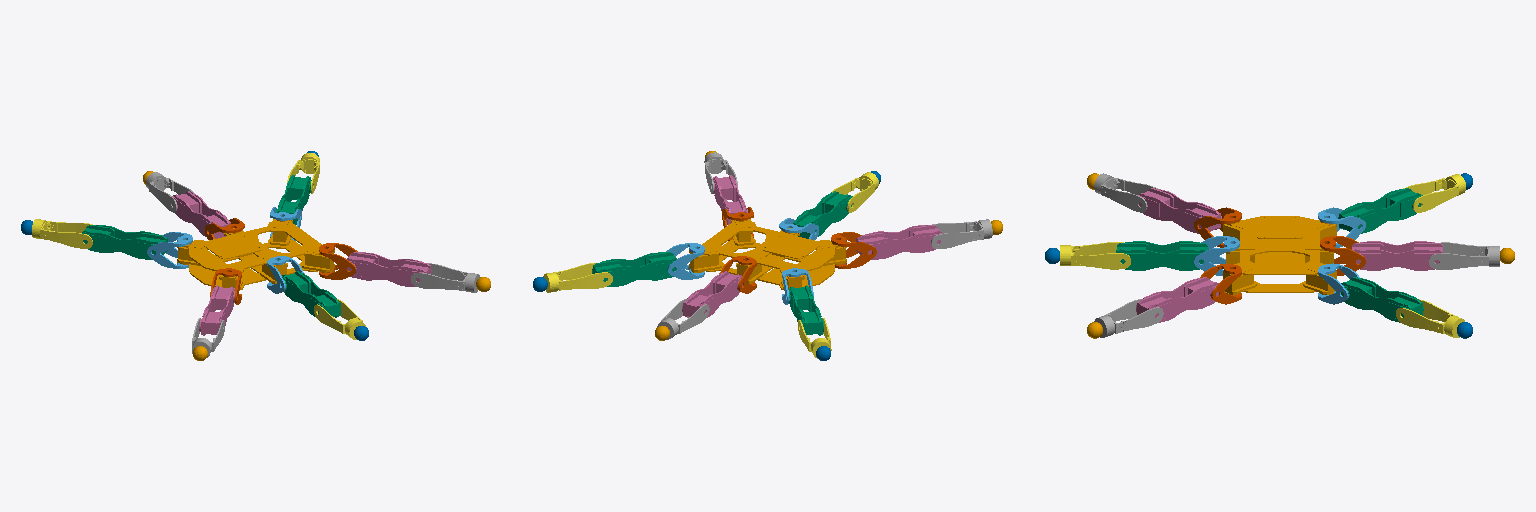
--- Facts derived from the render (not from the file) ---
Views: 3 orthographic renders of the robot side by side, from view 1: azimuth 30°, elevation 25°; view 2: azimuth 150°, elevation 25°; view 3: azimuth 270°, elevation 25°.
Model corin with 25 links and 24 joints (18 revolute, 6 fixed), rooted at body, posed all joints at 0.
Links seen in each view (by area): view 1: body, rf_upperleg, lr_upperleg, rm_upperleg, lm_upperleg, rf_lowerleg, lr_lowerleg, rr_upperleg, lf_upperleg, lr_hipassembly, rf_hipassembly, lm_lowerleg (+3 smaller); view 2: body, lf_upperleg, rr_upperleg, lm_upperleg, rm_upperleg, lf_lowerleg, rr_lowerleg, lr_upperleg, rf_upperleg, rr_hipassembly, rm_lowerleg, lf_hipassembly (+3 smaller); view 3: body, rm_upperleg, lm_upperleg, rf_upperleg, lf_upperleg, lr_upperleg, rr_upperleg, lm_lowerleg, rm_lowerleg, lf_lowerleg, rf_lowerleg, rr_lowerleg (+7 smaller).
Link boxes in pixels (bbox=[...]): body: bbox=[177, 219, 334, 290]; rf_upperleg: bbox=[347, 252, 431, 286]; lr_upperleg: bbox=[82, 225, 167, 259]; rm_upperleg: bbox=[281, 271, 340, 317]; lm_upperleg: bbox=[172, 191, 230, 238]; rf_lowerleg: bbox=[411, 263, 479, 292]; lr_lowerleg: bbox=[32, 219, 92, 248]; rr_upperleg: bbox=[199, 285, 234, 335]; lf_upperleg: bbox=[276, 175, 311, 224]; lr_hipassembly: bbox=[147, 232, 192, 268]; rf_hipassembly: bbox=[319, 243, 357, 279]; lm_lowerleg: bbox=[146, 172, 194, 212]; body: bbox=[689, 219, 846, 290]; lf_upperleg: bbox=[592, 252, 676, 286]; rr_upperleg: bbox=[856, 225, 942, 259]; lm_upperleg: bbox=[682, 271, 742, 317]; rm_upperleg: bbox=[793, 191, 852, 238]; lf_lowerleg: bbox=[543, 263, 612, 292]; rr_lowerleg: bbox=[931, 219, 992, 248]; lr_upperleg: bbox=[789, 285, 823, 335]; rf_upperleg: bbox=[713, 175, 747, 224]; rr_hipassembly: bbox=[831, 232, 876, 268]; rm_lowerleg: bbox=[832, 172, 878, 212]; lf_hipassembly: bbox=[666, 243, 704, 279]; body: bbox=[1223, 216, 1336, 294]; rm_upperleg: bbox=[1116, 241, 1208, 270]; lm_upperleg: bbox=[1352, 241, 1442, 270]; rf_upperleg: bbox=[1136, 277, 1218, 322]; lf_upperleg: bbox=[1341, 277, 1423, 322]; lr_upperleg: bbox=[1338, 188, 1422, 233]; rr_upperleg: bbox=[1138, 188, 1221, 233]; lm_lowerleg: bbox=[1429, 242, 1499, 269]; rm_lowerleg: bbox=[1060, 242, 1130, 269]; lf_lowerleg: bbox=[1396, 299, 1464, 337]; rf_lowerleg: bbox=[1094, 299, 1163, 337]; rr_lowerleg: bbox=[1094, 173, 1157, 212].
Size in the robot's own frame: 0.704 by 0.9 by 0.068 metres.
19 mesh visuals loaded from 4 distinct referenced files (3 binary STL, 1 OBJ).

URDF robot description (corin):
<?xml version="1.0"?>
<robot xmlns:xacro="http://www.ros.org/wiki/xacro" name="corin">

	<!-- START OF BODY SECTION!!!!-->
	<link name="body">
		<inertial>
			<origin xyz="0.0 0.0 0.0"/>
			<mass value="1.58"/>
			<inertia ixx="0.00491" iyy="0.007610" izz="0.01123"
					 ixy="0.0" ixz="0.0" iyz="0.0"/> <!-- values above given to 3 sf, 10 sf values available in common.xacro -->
		</inertial>
		<visual>
			<geometry>
				<mesh filename="./meshes/Body2.obj" scale="1 1 1"/> <!--these used to be referenced via ros package, i gave the full file name and moved the files to the drake ws to avoid ROS issues while i figure all this out. Consider coming back and using ROS later to tidy this up -->
			</geometry>
			<!--<material name="orange"/> Commented out this line as Mini Cheetah doesnt seem to have any mention of material or colour, and i thought this would be easier from a minimal working system perspective-->
		</visual>
		<collision>
			<geometry>
				<mesh filename="./meshes/Body_collision2.obj" scale="1 1 1"/>
			</geometry>
			<!--<material name="colli"/>-->
		</collision>
	</link>
	<!--END OF BODY SECTION!!!! -->



	<!--START OF LEFT FRONT LEG SECTION!!!!-->
	<!-- Joints -->
	<!-- Coxa joint -->
	<joint name="lf_q1_joint" type="revolute">
		<origin xyz="0.115 0.09 0" rpy="0 0 0.873"/>
		<parent link="body"/>
		<child  link="lf_hipassembly"/>
		<axis xyz="0 0 1"/>
		
		<limit effort="2.85" velocity="5.23" lower="-1.00" upper="1.00"/>
		<dynamics damping="0.15" friction="0" />
		<!-- <safety_controller k_position="100" k_velocity="100"
						   soft_lower_limit="${-7*PI/18}" soft_upper_limit="${5*PI/36}" /> -->
	</joint>
	<!-- Upper leg joint -->
	<joint name="lf_q2_joint" type="revolute">
		<origin xyz="0.06 0 0" rpy="1.571 0 0"/>
		<parent link="lf_hipassembly"/>
		<child  link="lf_upperleg"/>
		<axis xyz="0 0 1"/>
		<limit effort="2.85" velocity="5.23" lower="-2.22" upper="2.22"/>
		<dynamics damping="0.15" friction="0" />
		<!-- <safety_controller k_position="100" k_velocity="100"
						   soft_lower_limit="${-(1+reflect_front)*5*PI/36-(1-reflect_front)*7*PI/36}"
						   soft_upper_limit="${(1-reflect_front)*5*PI/36+(1+reflect_front)*7*PI/36}" /> -->
	</joint>
	<!-- Lower leg joint -->
	<joint name="lf_q3_joint" type="revolute">
		<origin xyz="0.15 0 0" rpy="0 0 0"/>
		<parent link="lf_upperleg"/>
		<child  link="lf_lowerleg"/>
		<axis xyz="0 0 1"/>
		<limit effort="2.85" velocity="5.23" lower="-2.79" upper="2.79"/>
		<dynamics damping="0.15" friction="0" />
		<!-- <safety_controller k_position="100" k_velocity="100"
						   soft_lower_limit="${-(1+reflect_front)*7*PI/18+(1-reflect_front)*PI/18}"
						   soft_upper_limit="${(1-reflect_front)*7*PI/18-(1+reflect_front)*PI/18}" /> -->

	</joint>
	<!-- Foot joint -->
	<joint name="lf_foot_joint" type="fixed">
		<origin xyz="0.134 0 0" rpy="0 0 0"/>
		<parent link="lf_lowerleg"/>
		<child  link="LF_FOOT"/>
	</joint>


	<!-- Links -->
	<!-- Hip assembly link -->
	<link name="lf_hipassembly">
		<visual>
			<origin rpy="0 0 0" xyz="0 0 0"/>
		      <geometry>
		        <mesh filename="./meshes/Coxa.STL" scale="1 1 1"/>
		      </geometry>
	      	<!--<material name="green"/>-->
	    </visual>

	    <collision>
	    	<origin rpy="0 0 0" xyz="0 0 0"/>
		    <geometry>
		      <mesh filename="./meshes/Coxa_collision2.obj" scale="1 1 1"/>
		    </geometry>
	      <!--<material name="orange"/>-->
	    </collision>

	    <inertial>
	    	<origin xyz="0.02471 0 0"/>
	      	<mass value="0.0406"/>
	      	<inertia ixx="0.000038" ixy="0.0" ixz="0.0" iyy="0.000038" iyz="0.0" izz="0.000040"/>
	    </inertial>
	  </link>

	<!-- Upper leg link -->
	<link name="lf_upperleg">
		<visual>
	      	<geometry>
	        	<mesh filename="./meshes/Femur.STL" scale="1 1 1"/>
	      	</geometry>
	      	<origin xyz="0 0 0" rpy="0 0 0"/>
	      	<!--<material name="blue"/>-->
	    </visual>

	    <collision>
	      	<geometry>
	        	<box size= "0.15 0.04 0.04"/>
	      	</geometry>
	      	<origin xyz="0.075 0 0" rpy="0 0 0"/>
	      	<!--<material name="colli"/>-->
	    </collision>

	    <inertial>
	      	<mass value="0.35"/>
	      	<inertia ixx="0.000014" ixy="0" ixz="0" iyy="0.000047" iyz="0" izz="0.000051"/>
	      	<origin xyz="0.075 0 0"/>
	    </inertial>
	</link>

	<!-- Lower leg link -->
	<link name="lf_lowerleg">
		<visual>
	      	<geometry>
	      		<mesh filename="./meshes/Tibia.STL" scale="1 1 1"/>
	      	</geometry>
	      	<origin xyz="0 0 0" rpy="1.571 0 0"/>
	      	<!--<material name="yellow"/>-->
	    </visual>

	    <collision>
	      	<geometry>
						<mesh filename="./meshes/Tibia_collision2.obj" scale="1 1 1"/>
	        	<!-- <box size= "${tibia_cl} ${tibia_d} ${tibia_w}"/> -->
	      	</geometry>
	      	<origin xyz="0.0 0 0" rpy="1.571 0 0"/>
	      	<!--<material name="colli"/>-->
	    </collision>

	    <inertial>
	      	<mass value="0.076"/>
	      	<inertia ixx="0.000025" ixy="0" ixz="0" iyy="0.000105" iyz="0" izz="0.000117"/>
	      	<origin xyz="0.0887 0 0"/>
	    </inertial>
	</link>

	<!-- Foot link -->
	<link name="LF_FOOT">
		<visual>
	      	<geometry>
	        	<sphere radius="0.016"/>
	      	</geometry>
	      	<origin xyz="0 0 0" rpy="0 0 0"/>
	      	<!--<material name="black"/>-->
	    </visual>

	    <collision>
	      	<geometry>
	        	<sphere radius="0.016"/>
	      	</geometry>
	      	<origin xyz="0 0 0" rpy="0 0 0"/>
	      	<!--<material name="colli"/>-->
	    </collision>

	    <inertial>
	      	<mass value="0.040"/>
	      	<inertia ixx="0.000004" ixy="0" ixz="0" iyy="0.000004" iyz="0" izz="0.000004" />
	      	<origin xyz="0 0 0"/>
	    </inertial>
	</link>
	<!--END OF LEFT FRONT LEG SECTION!!!!-->



	<!--START OF LEFT MIDDLE LEG SECTION!!!!-->
	<!-- Joints -->
	<!-- Coxa joint -->
	<joint name="lm_q1_joint" type="revolute">
		<origin xyz="0 0.09 0" rpy="0 0 1.571"/>
		<parent link="body"/>
		<child  link="lm_hipassembly"/>
		<axis xyz="0 0 1"/>
		
		<limit effort="2.85" velocity="5.23" lower="-0.84" upper="0.84"/>
		<dynamics damping="0.15" friction="0" />
		<!-- <safety_controller k_position="100" k_velocity="100"
						   soft_lower_limit="${-7*PI/18}" soft_upper_limit="${5*PI/36}" /> -->
	</joint>
	<!-- Upper leg joint -->
	<joint name="lm_q2_joint" type="revolute">
		<origin xyz="0.06 0 0" rpy="1.571 0 0"/>
		<parent link="lm_hipassembly"/>
		<child  link="lm_upperleg"/>
		<axis xyz="0 0 1"/>
		<limit effort="2.85" velocity="5.23" lower="-2.22" upper="2.22"/>
		<dynamics damping="0.15" friction="0" />
		<!-- <safety_controller k_position="100" k_velocity="100"
						   soft_lower_limit="${-(1+reflect_front)*5*PI/36-(1-reflect_front)*7*PI/36}"
						   soft_upper_limit="${(1-reflect_front)*5*PI/36+(1+reflect_front)*7*PI/36}" /> -->
	</joint>
	<!-- Lower leg joint -->
	<joint name="lm_q3_joint" type="revolute">
		<origin xyz="0.15 0 0" rpy="0 0 0"/>
		<parent link="lm_upperleg"/>
		<child  link="lm_lowerleg"/>
		<axis xyz="0 0 1"/>
		<limit effort="2.85" velocity="5.23" lower="-2.79" upper="2.79"/>
		<dynamics damping="0.15" friction="0" />
		<!-- <safety_controller k_position="100" k_velocity="100"
						   soft_lower_limit="${-(1+reflect_front)*7*PI/18+(1-reflect_front)*PI/18}"
						   soft_upper_limit="${(1-reflect_front)*7*PI/18-(1+reflect_front)*PI/18}" /> -->

	</joint>
	<!-- Foot joint -->
	<joint name="lm_foot_joint" type="fixed">
		<origin xyz="0.134 0 0" rpy="0 0 0"/>
		<parent link="lm_lowerleg"/>
		<child  link="LM_FOOT"/>
	</joint>


	<!-- Links -->
	<!-- Hip assembly link -->
	<link name="lm_hipassembly">
		<visual>
			<origin rpy="0 0 0" xyz="0 0 0"/>
		      <geometry>
		        <mesh filename="./meshes/Coxa.STL" scale="1 1 1"/>
		      </geometry>
	      	<!--<material name="green"/>-->
	    </visual>

	    <collision>
	    	<origin rpy="0 0 0" xyz="0 0 0"/>
		    <geometry>
		      <mesh filename="./meshes/Coxa_collision2.obj" scale="1 1 1"/>
		    </geometry>
	      <!--<material name="orange"/>-->
	    </collision>

	    <inertial>
	    	<origin xyz="0.02471 0 0"/>
	      	<mass value="0.0406"/>
	      	<inertia ixx="0.000038" ixy="0.0" ixz="0.0" iyy="0.000038" iyz="0.0" izz="0.000040"/>
	    </inertial>
	  </link>

	<!-- Upper leg link -->
	<link name="lm_upperleg">
		<visual>
	      	<geometry>
	        	<mesh filename="./meshes/Femur.STL" scale="1 1 1"/>
	      	</geometry>
	      	<origin xyz="0 0 0" rpy="0 0 0"/>
	      	<!--<material name="blue"/>-->
	    </visual>

	    <collision>
	      	<geometry>
	        	<box size= "0.15 0.04 0.04"/>
	      	</geometry>
	      	<origin xyz="0.075 0 0" rpy="0 0 0"/>
	      	<!--<material name="colli"/>-->
	    </collision>

	    <inertial>
	      	<mass value="0.35"/>
	      	<inertia ixx="0.000014" ixy="0" ixz="0" iyy="0.000047" iyz="0" izz="0.000051"/>
	      	<origin xyz="0.075 0 0"/>
	    </inertial>
	</link>

	<!-- Lower leg link -->
	<link name="lm_lowerleg">
		<visual>
	      	<geometry>
	      		<mesh filename="./meshes/Tibia.STL" scale="1 1 1"/>
	      	</geometry>
	      	<origin xyz="0 0 0" rpy="1.571 0 0"/>
	      	<!--<material name="yellow"/>-->
	    </visual>

	    <collision>
	      	<geometry>
						<mesh filename="./meshes/Tibia_collision2.obj" scale="1 1 1"/>
	        	<!-- <box size= "${tibia_cl} ${tibia_d} ${tibia_w}"/> -->
	      	</geometry>
	      	<origin xyz="0.0 0 0" rpy="1.571 0 0"/>
	      	<!--<material name="colli"/>-->
	    </collision>

	    <inertial>
	      	<mass value="0.076"/>
	      	<inertia ixx="0.000025" ixy="0" ixz="0" iyy="0.000105" iyz="0" izz="0.000117"/>
	      	<origin xyz="0.0887 0 0"/>
	    </inertial>
	</link>

	<!-- Foot link -->
	<link name="LM_FOOT">
		<visual>
	      	<geometry>
	        	<sphere radius="0.016"/>
	      	</geometry>
	      	<origin xyz="0 0 0" rpy="0 0 0"/>
	      	<!--<material name="black"/>-->
	    </visual>

	    <collision>
	      	<geometry>
	        	<sphere radius="0.016"/>
	      	</geometry>
	      	<origin xyz="0 0 0" rpy="0 0 0"/>
	      	<!--<material name="colli"/>-->
	    </collision>

	    <inertial>
	      	<mass value="0.040"/>
	      	<inertia ixx="0.000004" ixy="0" ixz="0" iyy="0.000004" iyz="0" izz="0.000004" />
	      	<origin xyz="0 0 0"/>
	    </inertial>
	</link>
	<!--END OF LEFT MIDDLE LEG SECTION!!!!-->



	<!--START OF LEFT REAR LEG SECTION!!!!-->
	<!-- Joints -->
	<!-- Coxa joint -->
	<joint name="lr_q1_joint" type="revolute">
		<origin xyz="-0.115 0.09 0" rpy="0 0 2.269"/>
		<parent link="body"/>
		<child  link="lr_hipassembly"/>
		<axis xyz="0 0 1"/>
		
		<limit effort="2.85" velocity="5.23" lower="-1.00" upper="1.00"/>
		<dynamics damping="0.15" friction="0" />
		<!-- <safety_controller k_position="100" k_velocity="100"
						   soft_lower_limit="${-7*PI/18}" soft_upper_limit="${5*PI/36}" /> -->
	</joint>
	<!-- Upper leg joint -->
	<joint name="lr_q2_joint" type="revolute">
		<origin xyz="0.06 0 0" rpy="1.571 0 0"/>
		<parent link="lr_hipassembly"/>
		<child  link="lr_upperleg"/>
		<axis xyz="0 0 1"/>
		<limit effort="2.85" velocity="5.23" lower="-2.22" upper="2.22"/>
		<dynamics damping="0.15" friction="0" />
		<!-- <safety_controller k_position="100" k_velocity="100"
						   soft_lower_limit="${-(1+reflect_front)*5*PI/36-(1-reflect_front)*7*PI/36}"
						   soft_upper_limit="${(1-reflect_front)*5*PI/36+(1+reflect_front)*7*PI/36}" /> -->
	</joint>
	<!-- Lower leg joint -->
	<joint name="lr_q3_joint" type="revolute">
		<origin xyz="0.15 0 0" rpy="0 0 0"/>
		<parent link="lr_upperleg"/>
		<child  link="lr_lowerleg"/>
		<axis xyz="0 0 1"/>
		<limit effort="2.85" velocity="5.23" lower="-2.79" upper="2.79"/>
		<dynamics damping="0.15" friction="0" />
		<!-- <safety_controller k_position="100" k_velocity="100"
						   soft_lower_limit="${-(1+reflect_front)*7*PI/18+(1-reflect_front)*PI/18}"
						   soft_upper_limit="${(1-reflect_front)*7*PI/18-(1+reflect_front)*PI/18}" /> -->

	</joint>
	<!-- Foot joint -->
	<joint name="lr_foot_joint" type="fixed">
		<origin xyz="0.134 0 0" rpy="0 0 0"/>
		<parent link="lr_lowerleg"/>
		<child  link="LH_FOOT"/>
	</joint>


	<!-- Links -->
	<!-- Hip assembly link -->
	<link name="lr_hipassembly">
		<visual>
			<origin rpy="0 0 0" xyz="0 0 0"/>
		      <geometry>
		        <mesh filename="./meshes/Coxa.STL" scale="1 1 1"/>
		      </geometry>
	      	<!--<material name="green"/>-->
	    </visual>

	    <collision>
	    	<origin rpy="0 0 0" xyz="0 0 0"/>
		    <geometry>
		      <mesh filename="./meshes/Coxa_collision2.obj" scale="1 1 1"/>
		    </geometry>
	      <!--<material name="orange"/>-->
	    </collision>

	    <inertial>
	    	<origin xyz="0.02471 0 0"/>
	      	<mass value="0.0406"/>
	      	<inertia ixx="0.000038" ixy="0.0" ixz="0.0" iyy="0.000038" iyz="0.0" izz="0.000040"/>
	    </inertial>
	  </link>

	<!-- Upper leg link -->
	<link name="lr_upperleg">
		<visual>
	      	<geometry>
	        	<mesh filename="./meshes/Femur.STL" scale="1 1 1"/>
	      	</geometry>
	      	<origin xyz="0 0 0" rpy="0 0 0"/>
	      	<!--<material name="blue"/>-->
	    </visual>

	    <collision>
	      	<geometry>
	        	<box size= "0.15 0.04 0.04"/>
	      	</geometry>
	      	<origin xyz="0.075 0 0" rpy="0 0 0"/>
	      	<!--<material name="colli"/>-->
	    </collision>

	    <inertial>
	      	<mass value="0.35"/>
	      	<inertia ixx="0.000014" ixy="0" ixz="0" iyy="0.000047" iyz="0" izz="0.000051"/>
	      	<origin xyz="0.075 0 0"/>
	    </inertial>
	</link>

	<!-- Lower leg link -->
	<link name="lr_lowerleg">
		<visual>
	      	<geometry>
	      		<mesh filename="./meshes/Tibia.STL" scale="1 1 1"/>
	      	</geometry>
	      	<origin xyz="0 0 0" rpy="1.571 0 0"/>
	      	<!--<material name="yellow"/>-->
	    </visual>

	    <collision>
	      	<geometry>
						<mesh filename="./meshes/Tibia_collision2.obj" scale="1 1 1"/>
	        	<!-- <box size= "${tibia_cl} ${tibia_d} ${tibia_w}"/> -->
	      	</geometry>
	      	<origin xyz="0.0 0 0" rpy="1.571 0 0"/>
	      	<!--<material name="colli"/>-->
	    </collision>

	    <inertial>
	      	<mass value="0.076"/>
	      	<inertia ixx="0.000025" ixy="0" ixz="0" iyy="0.000105" iyz="0" izz="0.000117"/>
	      	<origin xyz="0.0887 0 0"/>
	    </inertial>
	</link>

	<!-- Foot link -->
	<link name="LH_FOOT">
		<visual>
	      	<geometry>
	        	<sphere radius="0.016"/>
	      	</geometry>
	      	<origin xyz="0 0 0" rpy="0 0 0"/>
	      	<!--<material name="black"/>-->
	    </visual>

	    <collision>
	      	<geometry>
	        	<sphere radius="0.016"/>
	      	</geometry>
	      	<origin xyz="0 0 0" rpy="0 0 0"/>
	      	<!--<material name="colli"/>-->
	    </collision>

	    <inertial>
	      	<mass value="0.040"/>
	      	<inertia ixx="0.000004" ixy="0" ixz="0" iyy="0.000004" iyz="0" izz="0.000004" />
	      	<origin xyz="0 0 0"/>
	    </inertial>
	</link>
	<!--END OF LEFT REAR LEG SECTION!!!!-->




	<!--START OF RIGHT FRONT LEG SECTION!!!!-->
	<!-- Joints -->
	<!-- Coxa joint -->
	<joint name="rf_q1_joint" type="revolute">
		<origin xyz="0.115 -0.09 0" rpy="0 0 -0.873"/>
		<parent link="body"/>
		<child  link="rf_hipassembly"/>
		<axis xyz="0 0 1"/>
		
		<limit effort="2.85" velocity="5.23" lower="-1.00" upper="1.00"/>
		<dynamics damping="0.15" friction="0" />
		<!-- <safety_controller k_position="100" k_velocity="100"
						   soft_lower_limit="${-7*PI/18}" soft_upper_limit="${5*PI/36}" /> -->
	</joint>
	<!-- Upper leg joint -->
	<joint name="rf_q2_joint" type="revolute">
		<origin xyz="0.06 0 0" rpy="1.571 0 0"/>
		<parent link="rf_hipassembly"/>
		<child  link="rf_upperleg"/>
		<axis xyz="0 0 1"/>
		<limit effort="2.85" velocity="5.23" lower="-2.22" upper="2.22"/>
		<dynamics damping="0.15" friction="0" />
		<!-- <safety_controller k_position="100" k_velocity="100"
						   soft_lower_limit="${-(1+reflect_front)*5*PI/36-(1-reflect_front)*7*PI/36}"
						   soft_upper_limit="${(1-reflect_front)*5*PI/36+(1+reflect_front)*7*PI/36}" /> -->
	</joint>
	<!-- Lower leg joint -->
	<joint name="rf_q3_joint" type="revolute">
		<origin xyz="0.15 0 0" rpy="0 0 0"/>
		<parent link="rf_upperleg"/>
		<child  link="rf_lowerleg"/>
		<axis xyz="0 0 1"/>
		<limit effort="2.85" velocity="5.23" lower="-2.79" upper="2.79"/>
		<dynamics damping="0.15" friction="0" />
		<!-- <safety_controller k_position="100" k_velocity="100"
						   soft_lower_limit="${-(1+reflect_front)*7*PI/18+(1-reflect_front)*PI/18}"
						   soft_upper_limit="${(1-reflect_front)*7*PI/18-(1+reflect_front)*PI/18}" /> -->

	</joint>
	<!-- Foot joint -->
	<joint name="rf_foot_joint" type="fixed">
		<origin xyz="0.134 0 0" rpy="0 0 0"/>
		<parent link="rf_lowerleg"/>
		<child  link="RF_FOOT"/>
	</joint>


	<!-- Links -->
	<!-- Hip assembly link -->
	<link name="rf_hipassembly">
		<visual>
			<origin rpy="0 0 0" xyz="0 0 0"/>
		      <geometry>
		        <mesh filename="./meshes/Coxa.STL" scale="1 1 1"/>
		      </geometry>
	      	<!--<material name="green"/>-->
	    </visual>

	    <collision>
	    	<origin rpy="0 0 0" xyz="0 0 0"/>
		    <geometry>
		      <mesh filename="./meshes/Coxa_collision2.obj" scale="1 1 1"/>
		    </geometry>
	      <!--<material name="orange"/>-->
	    </collision>

	    <inertial>
	    	<origin xyz="0.02471 0 0"/>
	      	<mass value="0.0406"/>
	      	<inertia ixx="0.000038" ixy="0.0" ixz="0.0" iyy="0.000038" iyz="0.0" izz="0.000040"/>
	    </inertial>
	  </link>

	<!-- Upper leg link -->
	<link name="rf_upperleg">
		<visual>
	      	<geometry>
	        	<mesh filename="./meshes/Femur.STL" scale="1 1 1"/>
	      	</geometry>
	      	<origin xyz="0 0 0" rpy="0 0 0"/>
	      	<!--<material name="blue"/>-->
	    </visual>

	    <collision>
	      	<geometry>
	        	<box size= "0.15 0.04 0.04"/>
	      	</geometry>
	      	<origin xyz="0.075 0 0" rpy="0 0 0"/>
	      	<!--<material name="colli"/>-->
	    </collision>

	    <inertial>
	      	<mass value="0.35"/>
	      	<inertia ixx="0.000014" ixy="0" ixz="0" iyy="0.000047" iyz="0" izz="0.000051"/>
	      	<origin xyz="0.075 0 0"/>
	    </inertial>
	</link>

	<!-- Lower leg link -->
	<link name="rf_lowerleg">
		<visual>
	      	<geometry>
	      		<mesh filename="./meshes/Tibia.STL" scale="1 1 1"/>
	      	</geometry>
	      	<origin xyz="0 0 0" rpy="1.571 0 0"/>
	      	<!--<material name="yellow"/>-->
	    </visual>

	    <collision>
	      	<geometry>
						<mesh filename="./meshes/Tibia_collision2.obj" scale="1 1 1"/>
	        	<!-- <box size= "${tibia_cl} ${tibia_d} ${tibia_w}"/> -->
	      	</geometry>
	      	<origin xyz="0.0 0 0" rpy="1.571 0 0"/>
	      	<!--<material name="colli"/>-->
	    </collision>

	    <inertial>
	      	<mass value="0.076"/>
	      	<inertia ixx="0.000025" ixy="0" ixz="0" iyy="0.000105" iyz="0" izz="0.000117"/>
	      	<origin xyz="0.0887 0 0"/>
	    </inertial>
	</link>

	<!-- Foot link -->
	<link name="RF_FOOT">
		<visual>
	      	<geometry>
	        	<sphere radius="0.016"/>
	      	</geometry>
	      	<origin xyz="0 0 0" rpy="0 0 0"/>
	      	<!--<material name="black"/>-->
	    </visual>

	    <collision>
	      	<geometry>
	        	<sphere radius="0.016"/>
	      	</geometry>
	      	<origin xyz="0 0 0" rpy="0 0 0"/>
	      	<!--<material name="colli"/>-->
	    </collision>

	    <inertial>
	      	<mass value="0.040"/>
	      	<inertia ixx="0.000004" ixy="0" ixz="0" iyy="0.000004" iyz="0" izz="0.000004" />
	      	<origin xyz="0 0 0"/>
	    </inertial>
	</link>
	<!--END OF RIGHT FRONT LEG SECTION!!!!-->


	<!--START OF RIGHT MIDDLE LEG SECTION!!!!-->
	<!-- Joints -->
	<!-- Coxa joint -->
	<joint name="rm_q1_joint" type="revolute">
		<origin xyz="0 -0.09 0" rpy="0 0 -1.571"/> <!--PUT ORIGIN OF LEG HERE-->
		<parent link="body"/>
		<child  link="rm_hipassembly"/>
		<axis xyz="0 0 1"/>
		
		<limit effort="2.85" velocity="5.23" lower="-0.84" upper="0.84"/>
		<dynamics damping="0.15" friction="0" />
		<!-- <safety_controller k_position="100" k_velocity="100"
						   soft_lower_limit="${-7*PI/18}" soft_upper_limit="${5*PI/36}" /> -->
	</joint>
	<!-- Upper leg joint -->
	<joint name="rm_q2_joint" type="revolute">
		<origin xyz="0.06 0 0" rpy="1.571 0 0"/>
		<parent link="rm_hipassembly"/>
		<child  link="rm_upperleg"/>
		<axis xyz="0 0 1"/>
		<limit effort="2.85" velocity="5.23" lower="-2.22" upper="2.22"/>
		<dynamics damping="0.15" friction="0" />
		<!-- <safety_controller k_position="100" k_velocity="100"
						   soft_lower_limit="${-(1+reflect_front)*5*PI/36-(1-reflect_front)*7*PI/36}"
						   soft_upper_limit="${(1-reflect_front)*5*PI/36+(1+reflect_front)*7*PI/36}" /> -->
	</joint>
	<!-- Lower leg joint -->
	<joint name="rm_q3_joint" type="revolute">
		<origin xyz="0.15 0 0" rpy="0 0 0"/>
		<parent link="rm_upperleg"/>
		<child  link="rm_lowerleg"/>
		<axis xyz="0 0 1"/>
		<limit effort="2.85" velocity="5.23" lower="-2.79" upper="2.79"/>
		<dynamics damping="0.15" friction="0" />
		<!-- <safety_controller k_position="100" k_velocity="100"
						   soft_lower_limit="${-(1+reflect_front)*7*PI/18+(1-reflect_front)*PI/18}"
						   soft_upper_limit="${(1-reflect_front)*7*PI/18-(1+reflect_front)*PI/18}" /> -->

	</joint>
	<!-- Foot joint -->
	<joint name="rm_foot_joint" type="fixed">
		<origin xyz="0.134 0 0" rpy="0 0 0"/>
		<parent link="rm_lowerleg"/>
		<child  link="RM_FOOT"/>
	</joint>


	<!-- Links -->
	<!-- Hip assembly link -->
	<link name="rm_hipassembly">
		<visual>
			<origin rpy="0 0 0" xyz="0 0 0"/>
		      <geometry>
		        <mesh filename="./meshes/Coxa.STL" scale="1 1 1"/>
		      </geometry>
	      	<!--<material name="green"/>-->
	    </visual>

	    <collision>
	    	<origin rpy="0 0 0" xyz="0 0 0"/>
		    <geometry>
		      <mesh filename="./meshes/Coxa_collision2.obj" scale="1 1 1"/>
		    </geometry>
	      <!--<material name="orange"/>-->
	    </collision>

	    <inertial>
	    	<origin xyz="0.02471 0 0"/>
	      	<mass value="0.0406"/>
	      	<inertia ixx="0.000038" ixy="0.0" ixz="0.0" iyy="0.000038" iyz="0.0" izz="0.000040"/>
	    </inertial>
	  </link>

	<!-- Upper leg link -->
	<link name="rm_upperleg">
		<visual>
	      	<geometry>
	        	<mesh filename="./meshes/Femur.STL" scale="1 1 1"/>
	      	</geometry>
	      	<origin xyz="0 0 0" rpy="0 0 0"/>
	      	<!--<material name="blue"/>-->
	    </visual>

	    <collision>
	      	<geometry>
	        	<box size= "0.15 0.04 0.04"/>
	      	</geometry>
	      	<origin xyz="0.075 0 0" rpy="0 0 0"/>
	      	<!--<material name="colli"/>-->
	    </collision>

	    <inertial>
	      	<mass value="0.35"/>
	      	<inertia ixx="0.000014" ixy="0" ixz="0" iyy="0.000047" iyz="0" izz="0.000051"/>
	      	<origin xyz="0.075 0 0"/>
	    </inertial>
	</link>

	<!-- Lower leg link -->
	<link name="rm_lowerleg">
		<visual>
	      	<geometry>
	      		<mesh filename="./meshes/Tibia.STL" scale="1 1 1"/>
	      	</geometry>
	      	<origin xyz="0 0 0" rpy="1.571 0 0"/>
	      	<!--<material name="yellow"/>-->
	    </visual>

	    <collision>
	      	<geometry>
						<mesh filename="./meshes/Tibia_collision2.obj" scale="1 1 1"/>
	        	<!-- <box size= "${tibia_cl} ${tibia_d} ${tibia_w}"/> -->
	      	</geometry>
	      	<origin xyz="0.0 0 0" rpy="1.571 0 0"/>
	      	<!--<material name="colli"/>-->
	    </collision>

	    <inertial>
	      	<mass value="0.076"/>
	      	<inertia ixx="0.000025" ixy="0" ixz="0" iyy="0.000105" iyz="0" izz="0.000117"/>
	      	<origin xyz="0.0887 0 0"/>
	    </inertial>
	</link>

	<!-- Foot link -->
	<link name="RM_FOOT">
		<visual>
	      	<geometry>
	        	<sphere radius="0.016"/>
	      	</geometry>
	      	<origin xyz="0 0 0" rpy="0 0 0"/>
	      	<!--<material name="black"/>-->
	    </visual>

	    <collision>
	      	<geometry>
	        	<sphere radius="0.016"/>
	      	</geometry>
	      	<origin xyz="0 0 0" rpy="0 0 0"/>
	      	<!--<material name="colli"/>-->
	    </collision>

	    <inertial>
	      	<mass value="0.040"/>
	      	<inertia ixx="0.000004" ixy="0" ixz="0" iyy="0.000004" iyz="0" izz="0.000004" />
	      	<origin xyz="0 0 0"/>
	    </inertial>
	</link>
	<!--END OF LEFT FRONT LEG SECTION!!!!-->


	<!--START OF RIGHT REAR LEG SECTION!!!!-->
	<!-- Joints -->
	<!-- Coxa joint -->
	<joint name="rr_q1_joint" type="revolute">
		<origin xyz="-0.115 -0.09 0" rpy="0 0 -2.269"/>
		<parent link="body"/>
		<child  link="rr_hipassembly"/>
		<axis xyz="0 0 1"/>
		
		<limit effort="2.85" velocity="5.23" lower="-1.00" upper="1.00"/>
		<dynamics damping="0.15" friction="0" />
		<!-- <safety_controller k_position="100" k_velocity="100"
						   soft_lower_limit="${-7*PI/18}" soft_upper_limit="${5*PI/36}" /> -->
	</joint>
	<!-- Upper leg joint -->
	<joint name="rr_q2_joint" type="revolute">
		<origin xyz="0.06 0 0" rpy="1.571 0 0"/>
		<parent link="rr_hipassembly"/>
		<child  link="rr_upperleg"/>
		<axis xyz="0 0 1"/>
		<limit effort="2.85" velocity="5.23" lower="-2.22" upper="2.22"/>
		<dynamics damping="0.15" friction="0" />
		<!-- <safety_controller k_position="100" k_velocity="100"
						   soft_lower_limit="${-(1+reflect_front)*5*PI/36-(1-reflect_front)*7*PI/36}"
						   soft_upper_limit="${(1-reflect_front)*5*PI/36+(1+reflect_front)*7*PI/36}" /> -->
	</joint>
	<!-- Lower leg joint -->
	<joint name="rr_q3_joint" type="revolute">
		<origin xyz="0.15 0 0" rpy="0 0 0"/>
		<parent link="rr_upperleg"/>
		<child  link="rr_lowerleg"/>
		<axis xyz="0 0 1"/>
		<limit effort="2.85" velocity="5.23" lower="-2.79" upper="2.79"/>
		<dynamics damping="0.15" friction="0" />
		<!-- <safety_controller k_position="100" k_velocity="100"
						   soft_lower_limit="${-(1+reflect_front)*7*PI/18+(1-reflect_front)*PI/18}"
						   soft_upper_limit="${(1-reflect_front)*7*PI/18-(1+reflect_front)*PI/18}" /> -->

	</joint>
	<!-- Foot joint -->
	<joint name="rr_foot_joint" type="fixed">
		<origin xyz="0.134 0 0" rpy="0 0 0"/>
		<parent link="rr_lowerleg"/>
		<child  link="RH_FOOT"/>
	</joint>


	<!-- Links -->
	<!-- Hip assembly link -->
	<link name="rr_hipassembly">
		<visual>
			<origin rpy="0 0 0" xyz="0 0 0"/>
		      <geometry>
		        <mesh filename="./meshes/Coxa.STL" scale="1 1 1"/>
		      </geometry>
	      	<!--<material name="green"/>-->
	    </visual>

	    <collision>
	    	<origin rpy="0 0 0" xyz="0 0 0"/>
		    <geometry>
		      <mesh filename="./meshes/Coxa_collision2.obj" scale="1 1 1"/>
		    </geometry>
	      <!--<material name="orange"/>-->
	    </collision>

	    <inertial>
	    	<origin xyz="0.02471 0 0"/>
	      	<mass value="0.0406"/>
	      	<inertia ixx="0.000038" ixy="0.0" ixz="0.0" iyy="0.000038" iyz="0.0" izz="0.000040"/>
	    </inertial>
	  </link>

	<!-- Upper leg link -->
	<link name="rr_upperleg">
		<visual>
	      	<geometry>
	        	<mesh filename="./meshes/Femur.STL" scale="1 1 1"/>
	      	</geometry>
	      	<origin xyz="0 0 0" rpy="0 0 0"/>
	      	<!--<material name="blue"/>-->
	    </visual>

	    <collision>
	      	<geometry>
	        	<box size= "0.15 0.04 0.04"/>
	      	</geometry>
	      	<origin xyz="0.075 0 0" rpy="0 0 0"/>
	      	<!--<material name="colli"/>-->
	    </collision>

	    <inertial>
	      	<mass value="0.35"/>
	      	<inertia ixx="0.000014" ixy="0" ixz="0" iyy="0.000047" iyz="0" izz="0.000051"/>
	      	<origin xyz="0.075 0 0"/>
	    </inertial>
	</link>

	<!-- Lower leg link -->
	<link name="rr_lowerleg">
		<visual>
	      	<geometry>
	      		<mesh filename="./meshes/Tibia.STL" scale="1 1 1"/>
	      	</geometry>
	      	<origin xyz="0 0 0" rpy="1.571 0 0"/>
	      	<!--<material name="yellow"/>-->
	    </visual>

	    <collision>
	      	<geometry>
						<mesh filename="./meshes/Tibia_collision2.obj" scale="1 1 1"/>
	        	<!-- <box size= "${tibia_cl} ${tibia_d} ${tibia_w}"/> -->
	      	</geometry>
	      	<origin xyz="0.0 0 0" rpy="1.571 0 0"/>
	      	<!--<material name="colli"/>-->
	    </collision>

	    <inertial>
	      	<mass value="0.076"/>
	      	<inertia ixx="0.000025" ixy="0" ixz="0" iyy="0.000105" iyz="0" izz="0.000117"/>
	      	<origin xyz="0.0887 0 0"/>
	    </inertial>
	</link>

	<!-- Foot link -->
	<link name="RH_FOOT">
		<visual>
	      	<geometry>
	        	<sphere radius="0.016"/>
	      	</geometry>
	      	<origin xyz="0 0 0" rpy="0 0 0"/>
	      	<!--<material name="black"/>-->
	    </visual>

	    <collision>
	      	<geometry>
	        	<sphere radius="0.016"/>
	      	</geometry>
	      	<origin xyz="0 0 0" rpy="0 0 0"/>
	      	<!--<material name="colli"/>-->
	    </collision>

	    <inertial>
	      	<mass value="0.040"/>
	      	<inertia ixx="0.000004" ixy="0" ixz="0" iyy="0.000004" iyz="0" izz="0.000004" />
	      	<origin xyz="0 0 0"/>
	    </inertial>
	</link>
	<!--END OF RIGHT REAR LEG SECTION!!!!-->

	<!-- Sensors 
	<xacro:IMU
		parent="body"
		imu_name="base_imu"
		imu_topic="base/data"
		imu_service="trunk/service"
		update_rate="100">
		<origin xyz="0.0 0.0 0.022" rpy="0 0 0"/>
	</xacro:IMU>
	
	<xacro:LIDAR
		parent="body"
		lidar_name="trunk_lidar"
		lidar_topic="lidar/data"
		update_rate="100">
		<origin xyz="0.06 0.0 0.04" rpy="0 0 1.571"/>
	</xacro:LIDAR> -->

<!-- Joint Transmissions: Tells Drake that these are actuated-->

	<!-- START OF LEFT FRONT LEG TRANSMISSION -->
    <!-- Hip assembly -->
	<transmission name="lf_q1_trans">
		<type>transmission_interface/SimpleTransmission</type>
		<joint name="lf_q1_joint">
			<hardwareInterface>hardware_interface/EffortJointInterface</hardwareInterface>
		</joint>
		<actuator name="lf_q1_motor">
			<hardwareInterface>EffortJointInterface</hardwareInterface>
			<mechanicalReduction>200</mechanicalReduction>
		</actuator>
	</transmission>
	<!-- Upper leg -->
	<transmission name="lf_q2_trans">
		<type>transmission_interface/SimpleTransmission</type>
		<joint name="lf_q2_joint">
			<hardwareInterface>hardware_interface/EffortJointInterface</hardwareInterface>
		</joint>
		<actuator name="lf_q2_motor">
			<hardwareInterface>EffortJointInterface</hardwareInterface>
			<mechanicalReduction>200</mechanicalReduction>
		</actuator>
	</transmission>
	<!-- Lower leg -->
	<transmission name="lf_q3_trans">
		<type>transmission_interface/SimpleTransmission</type>
		<joint name="lf_q3_joint">
			<hardwareInterface>hardware_interface/EffortJointInterface</hardwareInterface>
		</joint>
		<actuator name="lf_q3_motor">
			<hardwareInterface>EffortJointInterface</hardwareInterface>
			<mechanicalReduction>200</mechanicalReduction>
		</actuator>
	</transmission>
	<!-- END OF LEFT FRONT LEG TRANSMISSION -->



	<!-- START OF LEFT BACK LEG TRANSMISSION -->
    <!-- Hip assembly -->
	<transmission name="lr_q1_trans">
		<type>transmission_interface/SimpleTransmission</type>
		<joint name="lr_q1_joint">
			<hardwareInterface>hardware_interface/EffortJointInterface</hardwareInterface>
		</joint>
		<actuator name="lr_q1_motor">
			<hardwareInterface>EffortJointInterface</hardwareInterface>
			<mechanicalReduction>200</mechanicalReduction>
		</actuator>
	</transmission>
	<!-- Upper leg -->
	<transmission name="lr_q2_trans">
		<type>transmission_interface/SimpleTransmission</type>
		<joint name="lr_q2_joint">
			<hardwareInterface>hardware_interface/EffortJointInterface</hardwareInterface>
		</joint>
		<actuator name="lr_q2_motor">
			<hardwareInterface>EffortJointInterface</hardwareInterface>
			<mechanicalReduction>200</mechanicalReduction>
		</actuator>
	</transmission>
	<!-- Lower leg -->
	<transmission name="lr_q3_trans">
		<type>transmission_interface/SimpleTransmission</type>
		<joint name="lr_q3_joint">
			<hardwareInterface>hardware_interface/EffortJointInterface</hardwareInterface>
		</joint>
		<actuator name="lr_q3_motor">
			<hardwareInterface>EffortJointInterface</hardwareInterface>
			<mechanicalReduction>200</mechanicalReduction>
		</actuator>
	</transmission>
	<!-- END OF LEFT BACK LEG TRANSMISSION -->



	<!-- START OF LEFT MIDDLE LEG TRANSMISSION -->
	<!-- Hip assembly -->
		<transmission name="lm_q1_trans">
			<type>transmission_interface/SimpleTransmission</type>
			<joint name="lm_q1_joint">
				<hardwareInterface>hardware_interface/EffortJointInterface</hardwareInterface>
			</joint>
			<actuator name="lm_q1_motor">
				<hardwareInterface>EffortJointInterface</hardwareInterface>
				<mechanicalReduction>200</mechanicalReduction>
			</actuator>
		</transmission>
    	<!-- Upper leg -->
		<transmission name="lm_q2_trans">
			<type>transmission_interface/SimpleTransmission</type>
			<joint name="lm_q2_joint">
				<hardwareInterface>hardware_interface/EffortJointInterface</hardwareInterface>
			</joint>
			<actuator name="lm_q2_motor">
				<hardwareInterface>EffortJointInterface</hardwareInterface>
				<mechanicalReduction>200</mechanicalReduction>
			</actuator>
		</transmission>
    	<!-- Lower leg -->
		<transmission name="lm_q3_trans">
			<type>transmission_interface/SimpleTransmission</type>
			<joint name="lm_q3_joint">
				<hardwareInterface>hardware_interface/EffortJointInterface</hardwareInterface>
			</joint>
			<actuator name="lm_q3_motor">
				<hardwareInterface>EffortJointInterface</hardwareInterface>
				<mechanicalReduction>200</mechanicalReduction>
			</actuator>
		</transmission>
	<!-- END OF LEFT MIDDLE LEG TRANSMISSION -->



	<!-- START OF RIGHT FRONT LEG TRANSMISSION -->
    <!-- Hip assembly -->
	<transmission name="rf_q1_trans">
		<type>transmission_interface/SimpleTransmission</type>
		<joint name="rf_q1_joint">
			<hardwareInterface>hardware_interface/EffortJointInterface</hardwareInterface>
		</joint>
		<actuator name="rf_q1_motor">
			<hardwareInterface>EffortJointInterface</hardwareInterface>
			<mechanicalReduction>200</mechanicalReduction>
		</actuator>
	</transmission>
	<!-- Upper leg -->
	<transmission name="rf_q2_trans">
		<type>transmission_interface/SimpleTransmission</type>
		<joint name="rf_q2_joint">
			<hardwareInterface>hardware_interface/EffortJointInterface</hardwareInterface>
		</joint>
		<actuator name="rf_q2_motor">
			<hardwareInterface>EffortJointInterface</hardwareInterface>
			<mechanicalReduction>200</mechanicalReduction>
		</actuator>
	</transmission>
	<!-- Lower leg -->
	<transmission name="rf_q3_trans">
		<type>transmission_interface/SimpleTransmission</type>
		<joint name="rf_q3_joint">
			<hardwareInterface>hardware_interface/EffortJointInterface</hardwareInterface>
		</joint>
		<actuator name="rf_q3_motor">
			<hardwareInterface>EffortJointInterface</hardwareInterface>
			<mechanicalReduction>200</mechanicalReduction>
		</actuator>
	</transmission>
	<!-- END OF RIGHT FRONT LEG TRANSMISSION -->



	<!-- START OF RIGHT MIDDLE LEG TRANSMISSION -->
	<!-- Hip assembly -->
		<transmission name="rm_q1_trans">
			<type>transmission_interface/SimpleTransmission</type>
			<joint name="rm_q1_joint">
				<hardwareInterface>hardware_interface/EffortJointInterface</hardwareInterface>
			</joint>
			<actuator name="rm_q1_motor">
				<hardwareInterface>EffortJointInterface</hardwareInterface>
				<mechanicalReduction>200</mechanicalReduction>
			</actuator>
		</transmission>
    	<!-- Upper leg -->
		<transmission name="rm_q2_trans">
			<type>transmission_interface/SimpleTransmission</type>
			<joint name="rm_q2_joint">
				<hardwareInterface>hardware_interface/EffortJointInterface</hardwareInterface>
			</joint>
			<actuator name="rm_q2_motor">
				<hardwareInterface>EffortJointInterface</hardwareInterface>
				<mechanicalReduction>200</mechanicalReduction>
			</actuator>
		</transmission>
    	<!-- Lower leg -->
		<transmission name="rm_q3_trans">
			<type>transmission_interface/SimpleTransmission</type>
			<joint name="rm_q3_joint">
				<hardwareInterface>hardware_interface/EffortJointInterface</hardwareInterface>
			</joint>
			<actuator name="rm_q3_motor">
				<hardwareInterface>EffortJointInterface</hardwareInterface>
				<mechanicalReduction>200</mechanicalReduction>
			</actuator>
		</transmission>
	<!-- END OF RIGHT MIDDLE LEG TRANSMISSION -->



	<!-- START OF RIGHT BACK LEG TRANSMISSION -->
    <!-- Hip assembly -->
	<transmission name="rr_q1_trans">
		<type>transmission_interface/SimpleTransmission</type>
		<joint name="rr_q1_joint">
			<hardwareInterface>hardware_interface/EffortJointInterface</hardwareInterface>
		</joint>
		<actuator name="rr_q1_motor">
			<hardwareInterface>EffortJointInterface</hardwareInterface>
			<mechanicalReduction>200</mechanicalReduction>
		</actuator>
	</transmission>
	<!-- Upper leg -->
	<transmission name="rr_q2_trans">
		<type>transmission_interface/SimpleTransmission</type>
		<joint name="rr_q2_joint">
			<hardwareInterface>hardware_interface/EffortJointInterface</hardwareInterface>
		</joint>
		<actuator name="rr_q2_motor">
			<hardwareInterface>EffortJointInterface</hardwareInterface>
			<mechanicalReduction>200</mechanicalReduction>
		</actuator>
	</transmission>
	<!-- Lower leg -->
	<transmission name="rr_q3_trans">
		<type>transmission_interface/SimpleTransmission</type>
		<joint name="rr_q3_joint">
			<hardwareInterface>hardware_interface/EffortJointInterface</hardwareInterface>
		</joint>
		<actuator name="rr_q3_motor">
			<hardwareInterface>EffortJointInterface</hardwareInterface>
			<mechanicalReduction>200</mechanicalReduction>
		</actuator>
	</transmission>
	<!-- END OF RIGHT BACK LEG TRANSMISSION -->

</robot>
